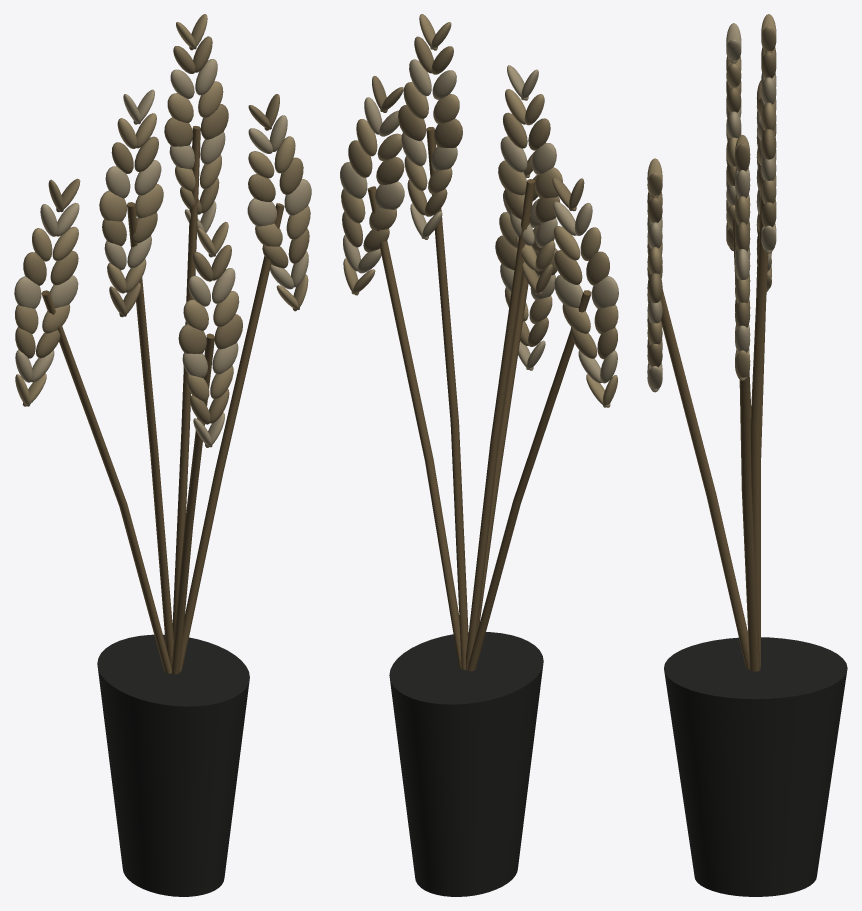
Rendered from potted-pampas-plant.glb.
3 views of the same model, side by side, from view 1: azimuth 30°, elevation 25°; view 2: azimuth 150°, elevation 25°; view 3: azimuth 270°, elevation 25° (orthographic). The views are drawn at different scales.
Visible parts, largest first — view 1: tapered_floor_pot, plume_5, plume_4, plume_3, plume_1, plume_2, stem_1, stem_3, stem_4, stem_2, stem_5; view 2: tapered_floor_pot, plume_4, plume_2, plume_1, plume_3, stem_2, stem_3, stem_1, plume_5, stem_4, stem_5; view 3: tapered_floor_pot, stem_5, stem_2, plume_1, plume_2, plume_5, stem_1, plume_3, plume_4, stem_4.
Part boxes in pixels (x1,y1,x2,y2): tapered_floor_pot: [97, 634, 249, 896]; plume_5: [178, 221, 242, 447]; plume_4: [14, 178, 80, 406]; plume_3: [99, 89, 163, 317]; plume_1: [247, 94, 311, 311]; plume_2: [164, 14, 228, 232]; stem_1: [179, 203, 284, 671]; stem_3: [127, 202, 173, 667]; stem_4: [41, 290, 171, 673]; stem_2: [172, 126, 200, 639]; stem_5: [171, 333, 214, 674]; tapered_floor_pot: [389, 632, 543, 896]; plume_4: [552, 177, 618, 407]; plume_2: [398, 14, 462, 239]; plume_1: [340, 76, 404, 295]; plume_3: [498, 65, 562, 295]; stem_2: [426, 127, 468, 669]; stem_3: [465, 179, 535, 670]; stem_1: [367, 186, 461, 668]; plume_5: [495, 150, 557, 370]; stem_4: [467, 290, 591, 671]; stem_5: [477, 272, 528, 630]; tapered_floor_pot: [664, 637, 847, 896]; stem_5: [660, 289, 749, 669]; stem_2: [750, 155, 768, 669]; plume_1: [735, 135, 750, 381]; plume_2: [761, 14, 776, 253]; plume_5: [647, 158, 662, 392]; stem_1: [739, 348, 759, 671]; plume_3: [726, 23, 741, 251]; plume_4: [756, 80, 771, 291]; stem_4: [756, 231, 765, 665].
Bounding box in the file's own units: 0.7749 × 2.19 × 0.4575.
